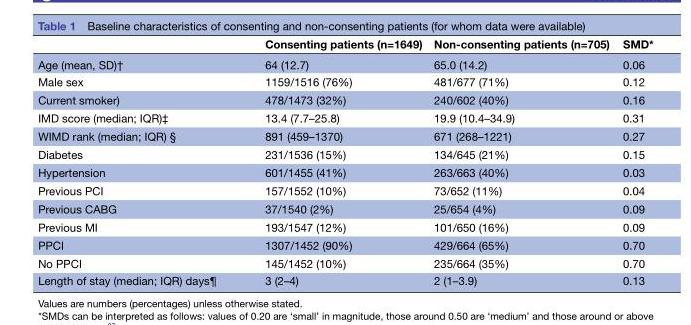table: (37, 36, 652, 286)
table column: (37, 36, 239, 286), (239, 36, 427, 286), (427, 36, 615, 286), (615, 36, 652, 286)
table column header: (37, 36, 652, 53)
table row: (37, 53, 652, 72), (37, 162, 652, 181), (37, 72, 652, 90), (37, 90, 652, 108), (37, 108, 652, 126), (37, 126, 652, 144), (37, 144, 652, 162), (37, 181, 652, 199), (37, 199, 652, 217), (37, 217, 652, 235), (37, 235, 652, 253), (37, 253, 652, 271), (37, 36, 652, 53), (37, 271, 652, 286)
